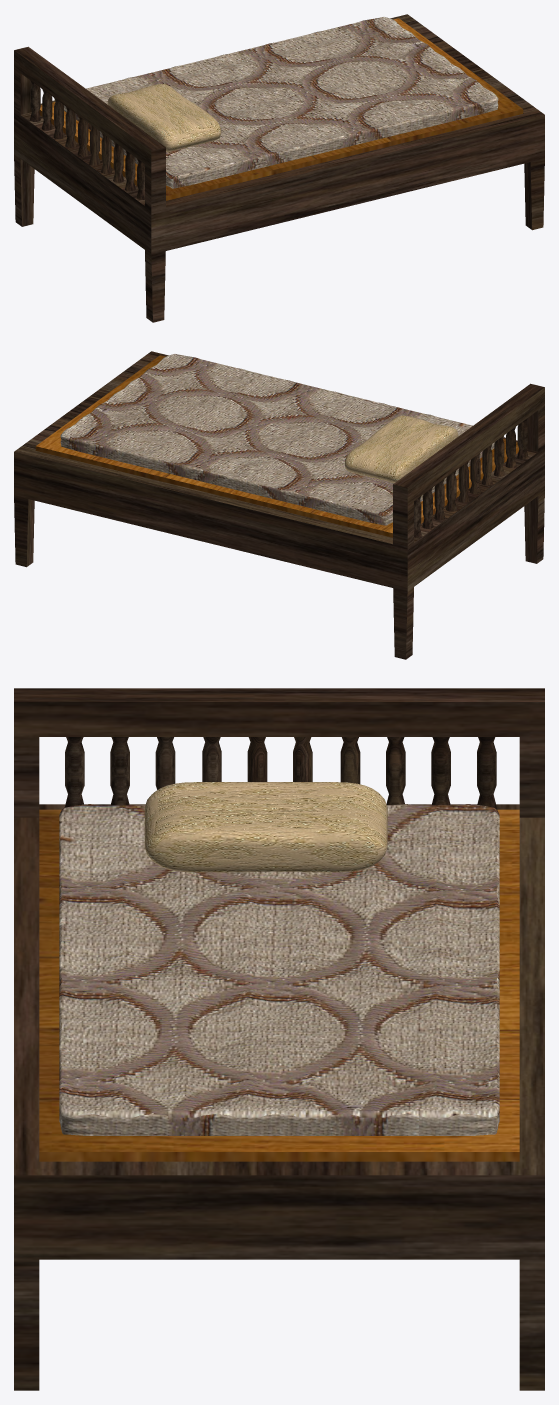
Rendered from Bed.fbx.
3 views of the same model, one above another, from view 1: azimuth 30°, elevation 25°; view 2: azimuth 150°, elevation 25°; view 3: azimuth 270°, elevation 25° (orthographic). The views are drawn at different scales.
Visible parts, largest first — view 1: polySurface2; view 2: polySurface2; view 3: polySurface2.
Boxes of the visible parts, x1,y1,x2,y2 form: polySurface2: (14, 14, 544, 322); polySurface2: (14, 351, 544, 659); polySurface2: (14, 688, 544, 1390).
Bounding box in the file's own units: 19.2 × 8.03 × 11.61.
4 materials, 4 textured.
